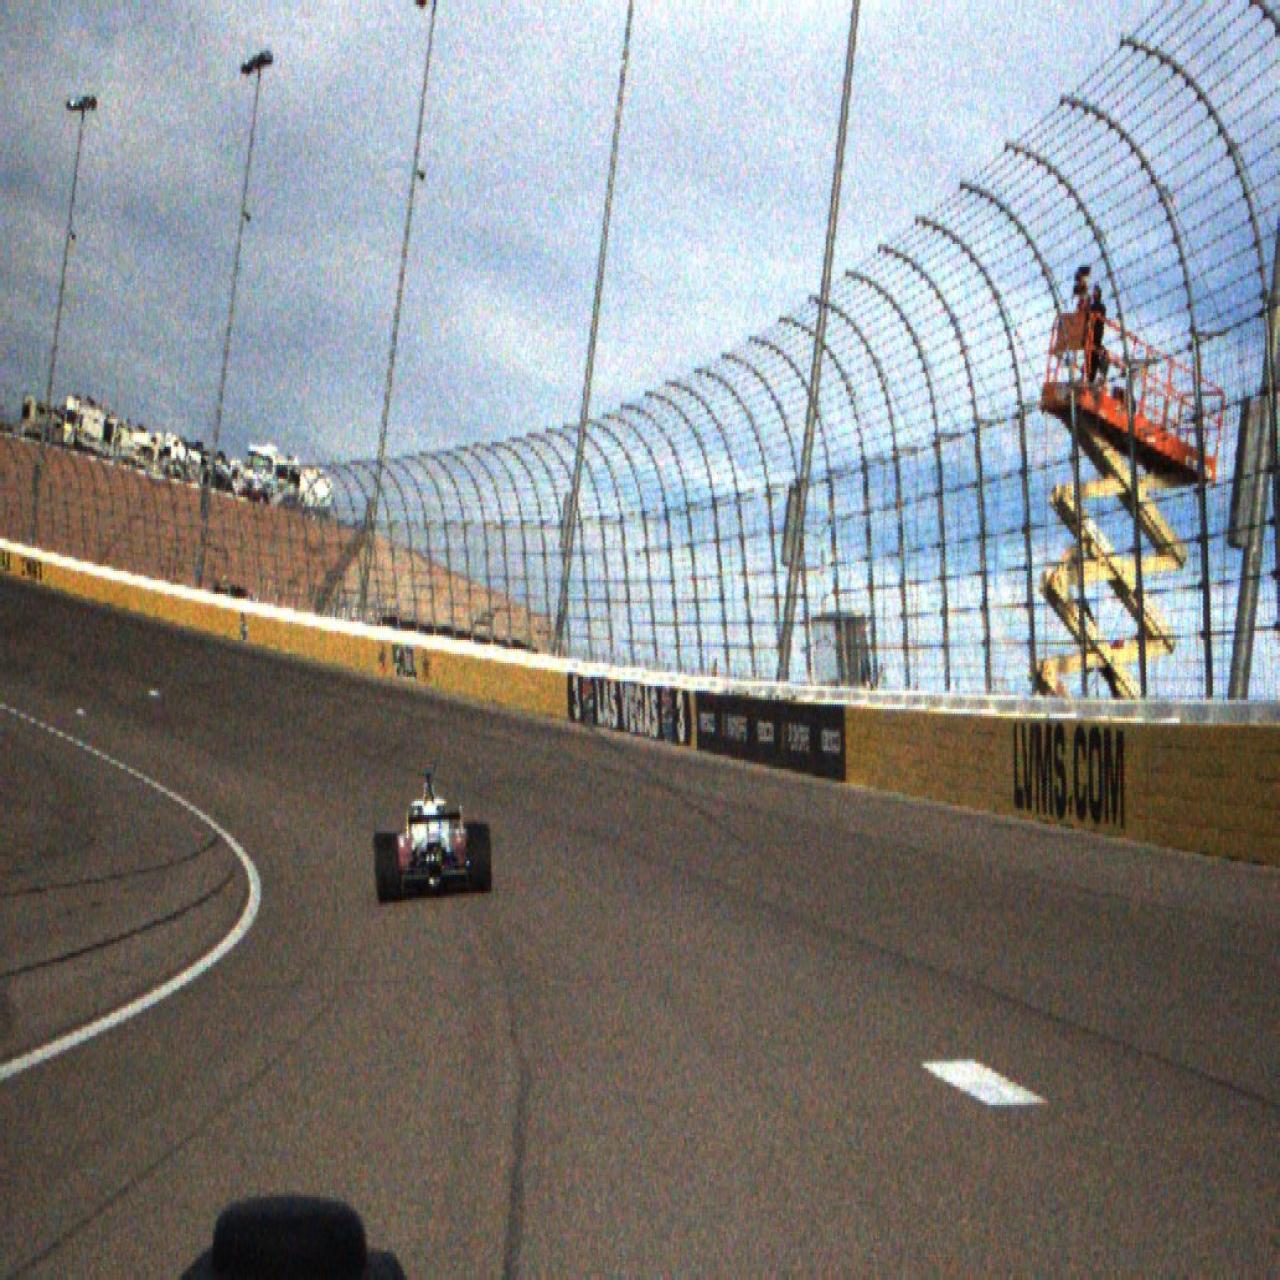AV: (375, 769, 491, 904)
Wheel: (468, 822, 490, 894), (376, 832, 397, 903)
